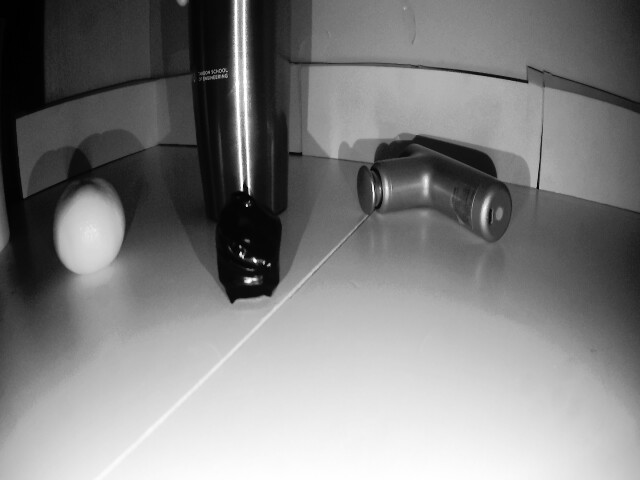silver: (203, 196, 284, 291)
